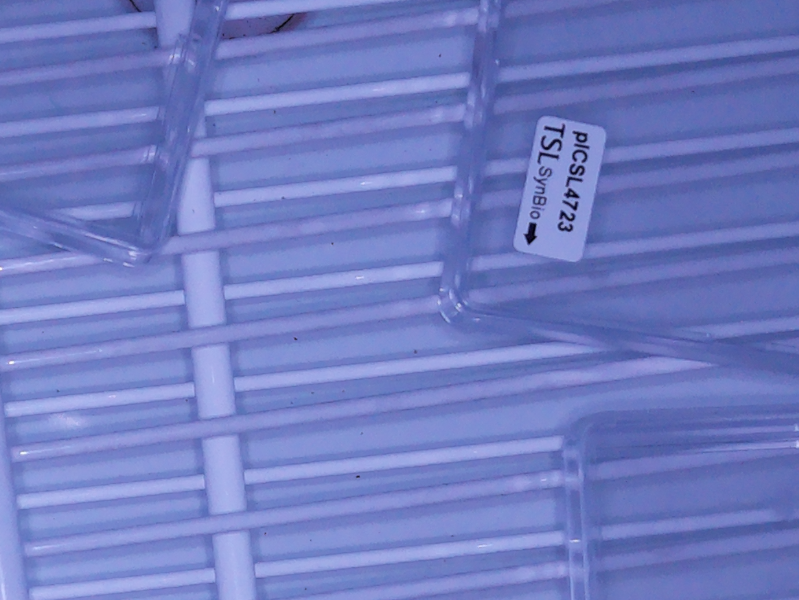plate: (431, 1, 799, 377), (1, 1, 233, 271), (560, 403, 799, 600)
